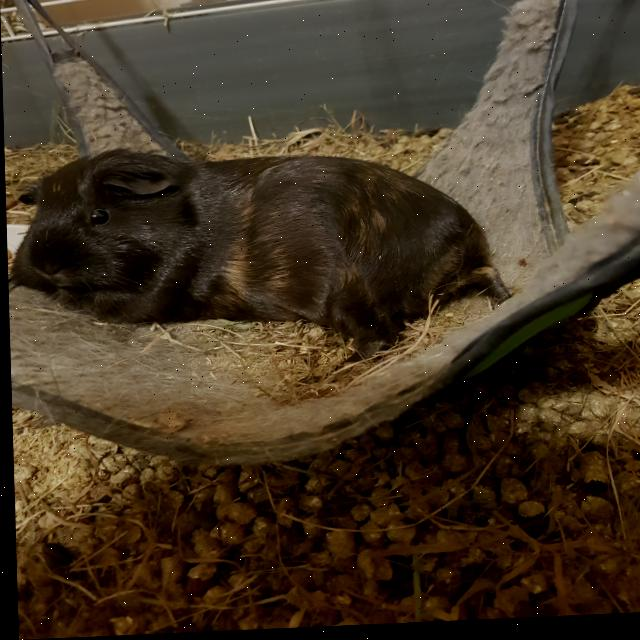guinea pig: (4, 133, 516, 381)
